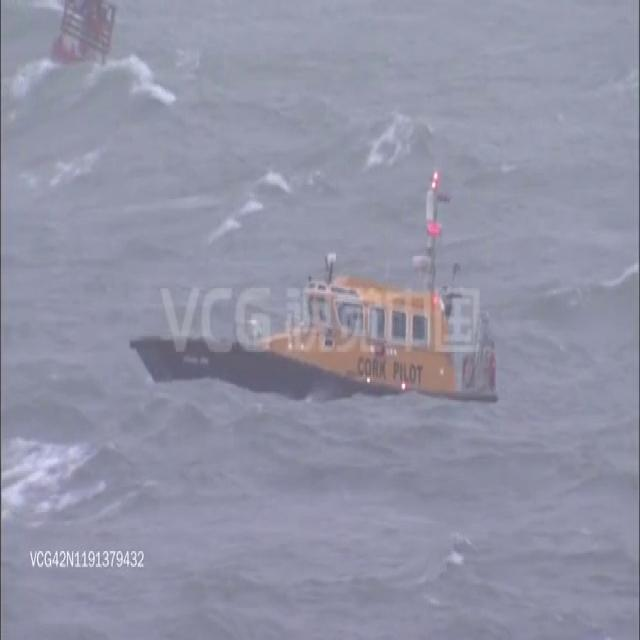houseboat: (121, 181, 502, 416)
